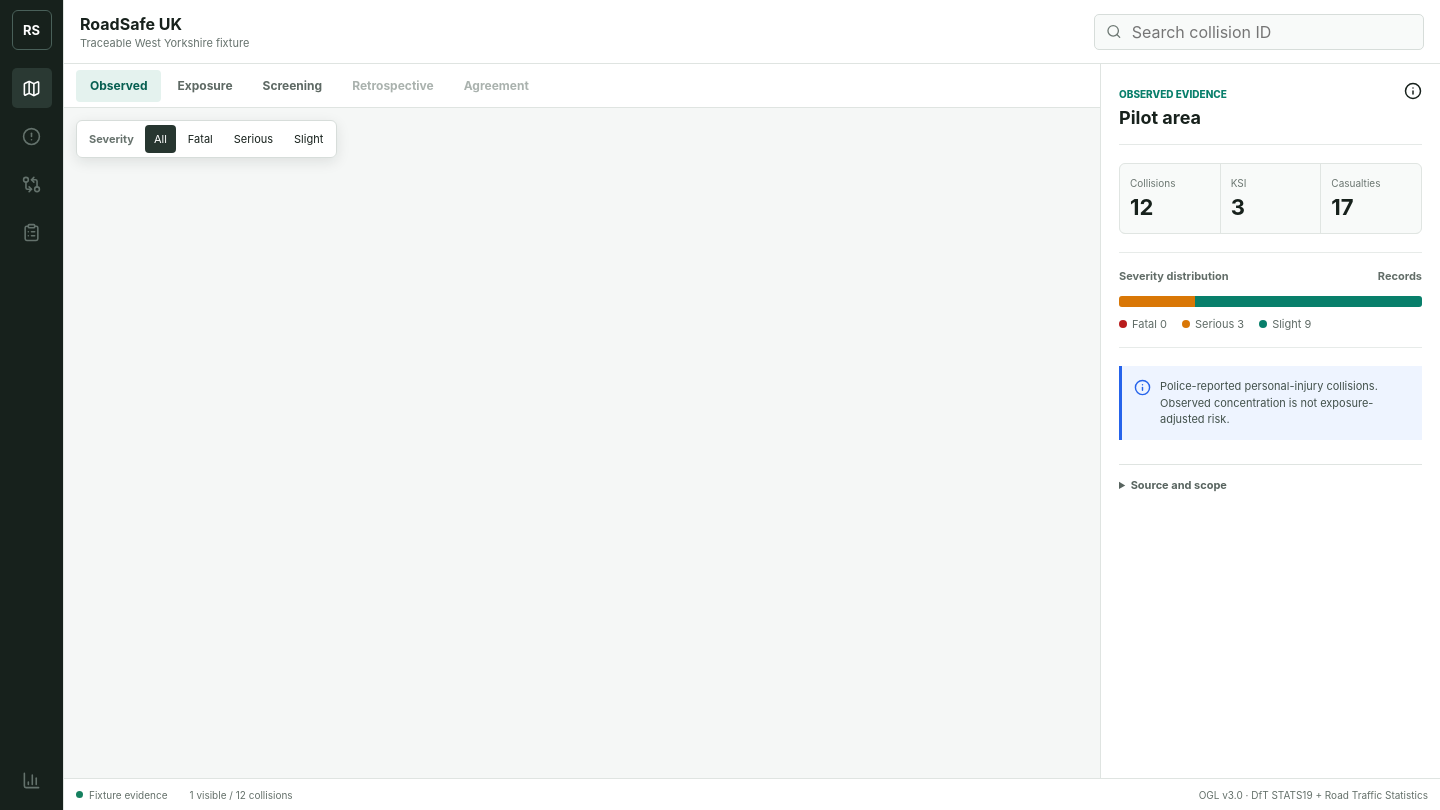
Test: Observed footer shows no road points while matching is loading
Check: the text "Fixture evidence" is shown, box x1=76 y1=788 x2=168 y2=800
Click the button "Exposure" at (205, 86), box x1=164 y1=70 x2=247 y2=102
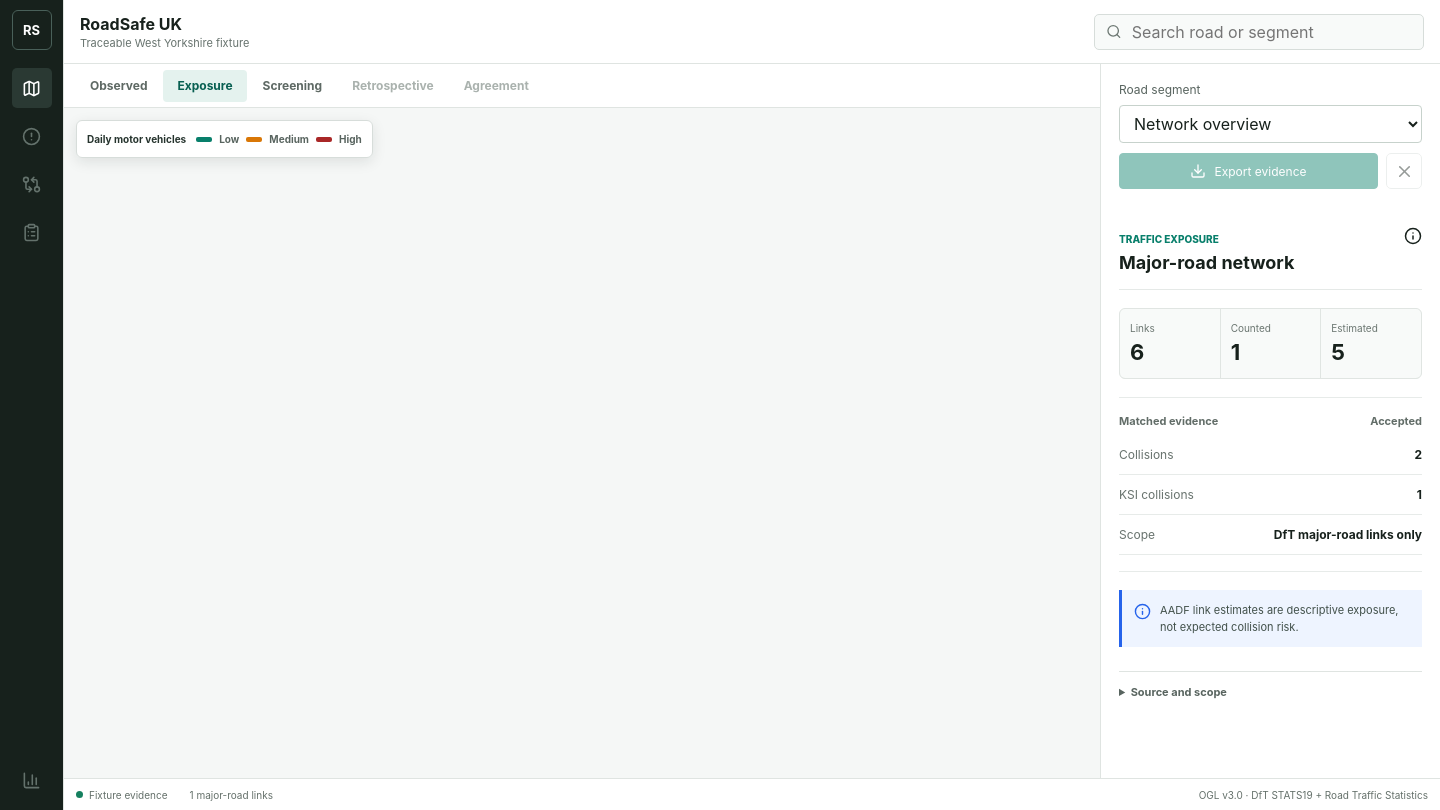
Select "A1 · 1" in the dropdown labelled "Road segment" at (1270, 124), box x1=1119 y1=105 x2=1422 y2=143
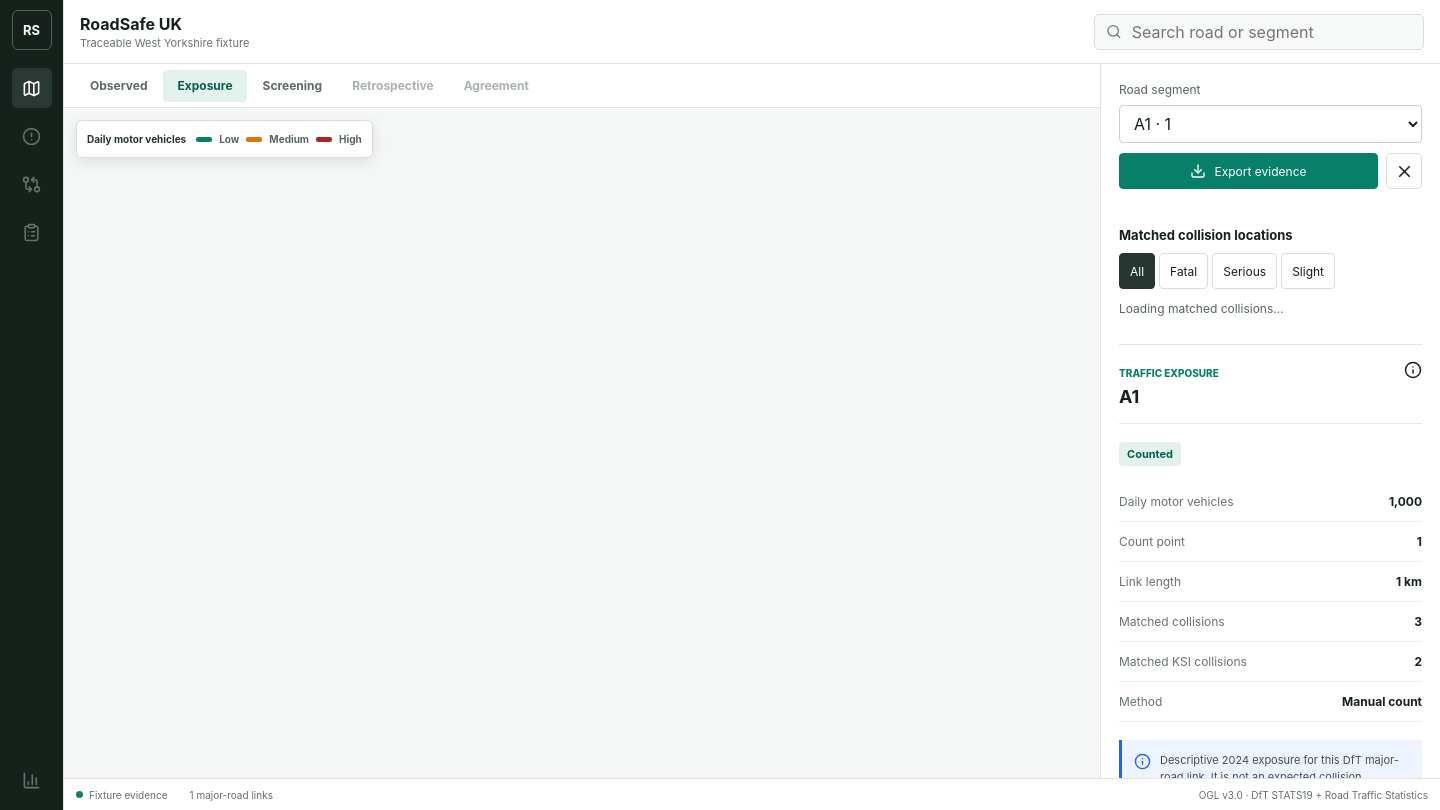
Click the button "Observed" at (119, 86), box x1=76 y1=70 x2=162 y2=102
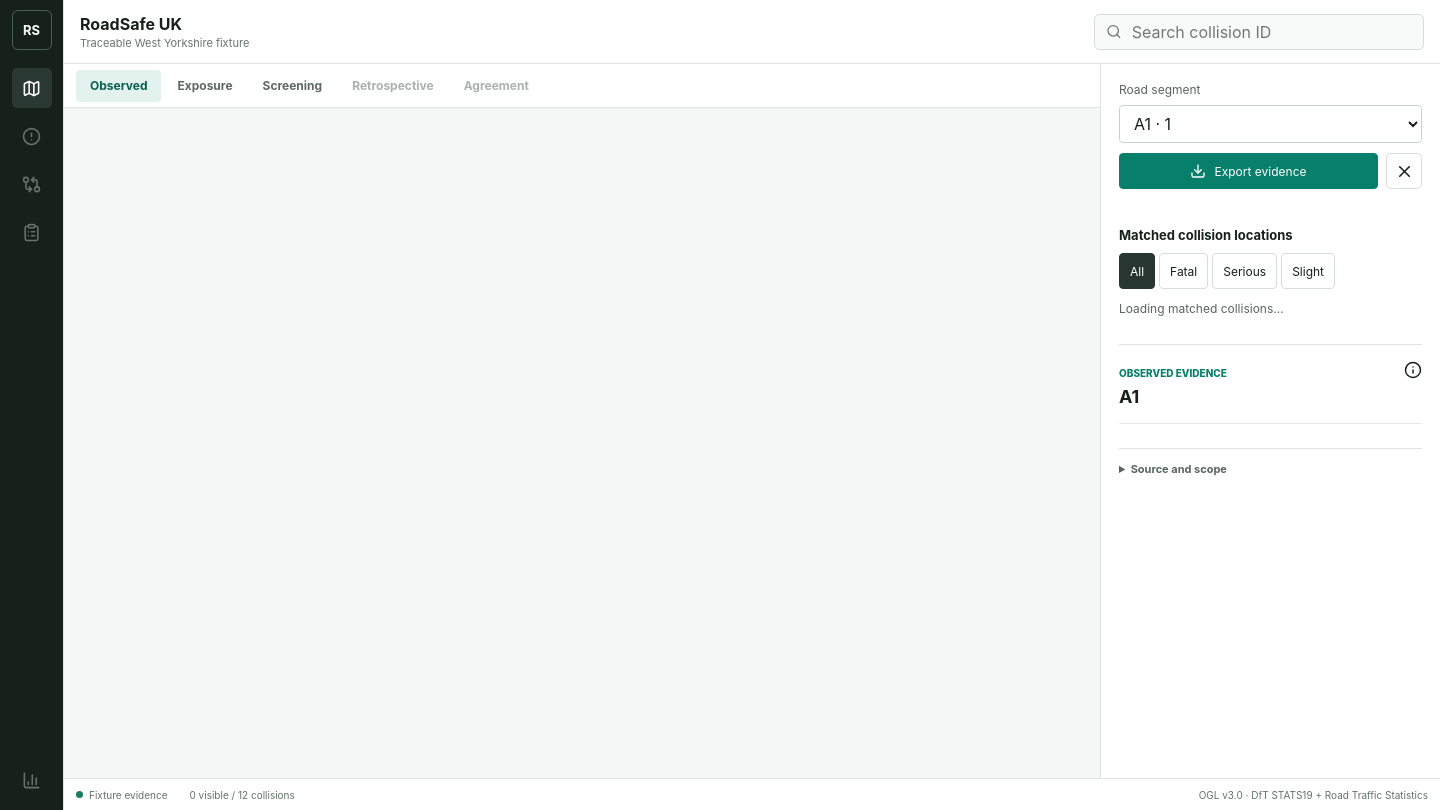
Check: the text "0 visible / 12 collisions" is shown, box x1=190 y1=788 x2=295 y2=800
